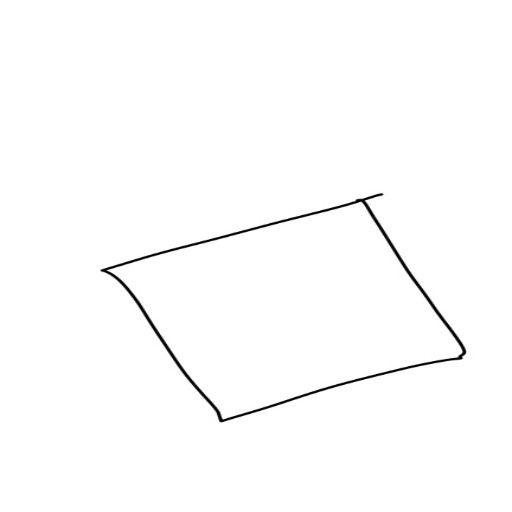square: (90, 182, 474, 427)
